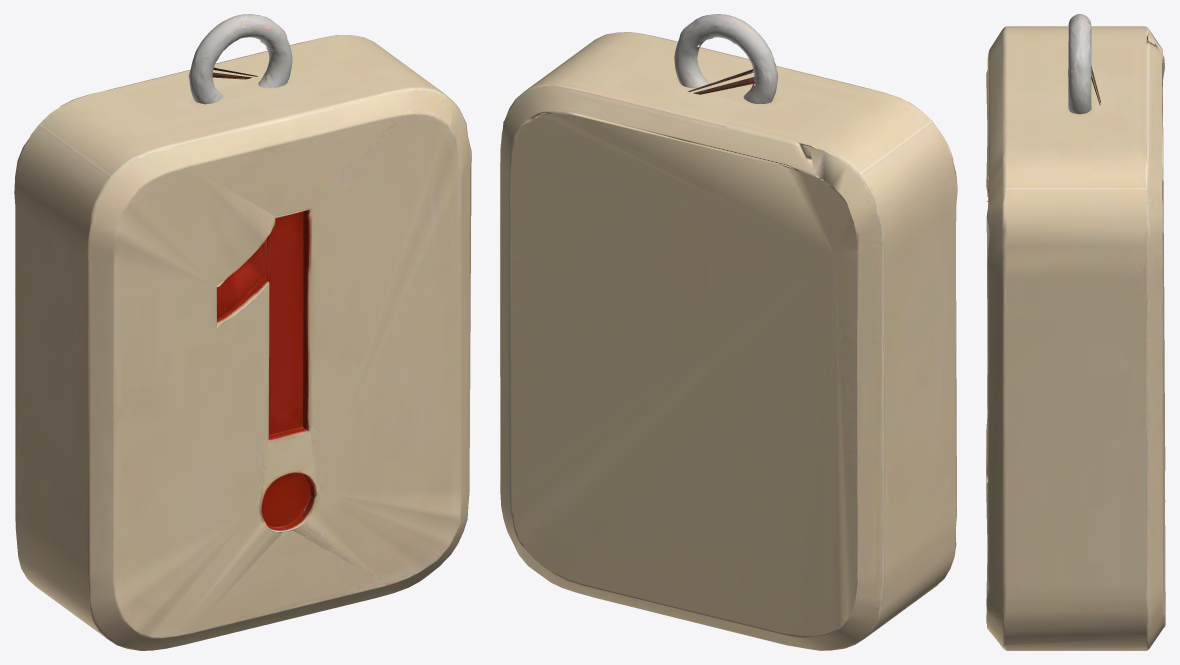
File: sus_okey.glb
3 renders of one model, left to right at view 1: azimuth 30°, elevation 25°; view 2: azimuth 150°, elevation 25°; view 3: azimuth 270°, elevation 25°, orthographic. The views are drawn at different scales.
Parts seen in each view (by area): view 1: sus; view 2: sus; view 3: sus.
Part boxes in pixels (<box>): sus: <box>14,14,471,650</box>; sus: <box>500,14,957,650</box>; sus: <box>986,14,1165,650</box>.
Bounding box in the file's own units: 0.0237 × 0.034 × 0.00972.
Materials: 1 (1 with a texture image).
